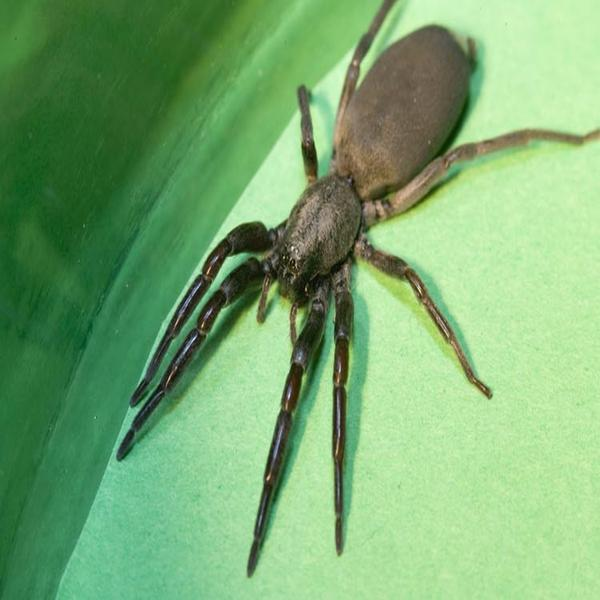White-Tailed_Spider: (118, 2, 596, 572)
